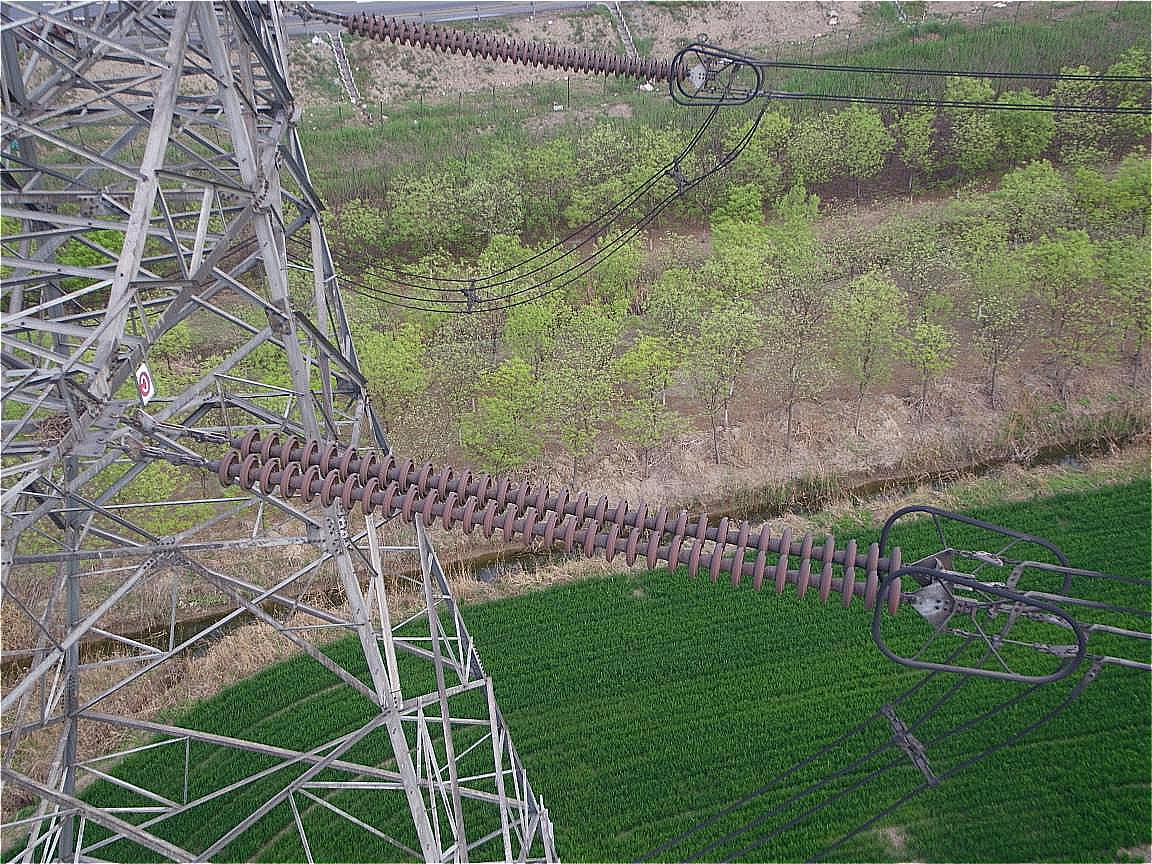insultor1: (202, 410, 909, 617), (335, 1, 706, 92)
